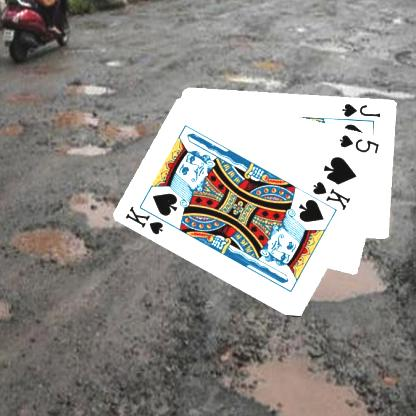5S: (337, 132, 381, 154)
JS: (340, 100, 382, 118)
KS: (123, 202, 173, 236), (310, 178, 352, 212)
